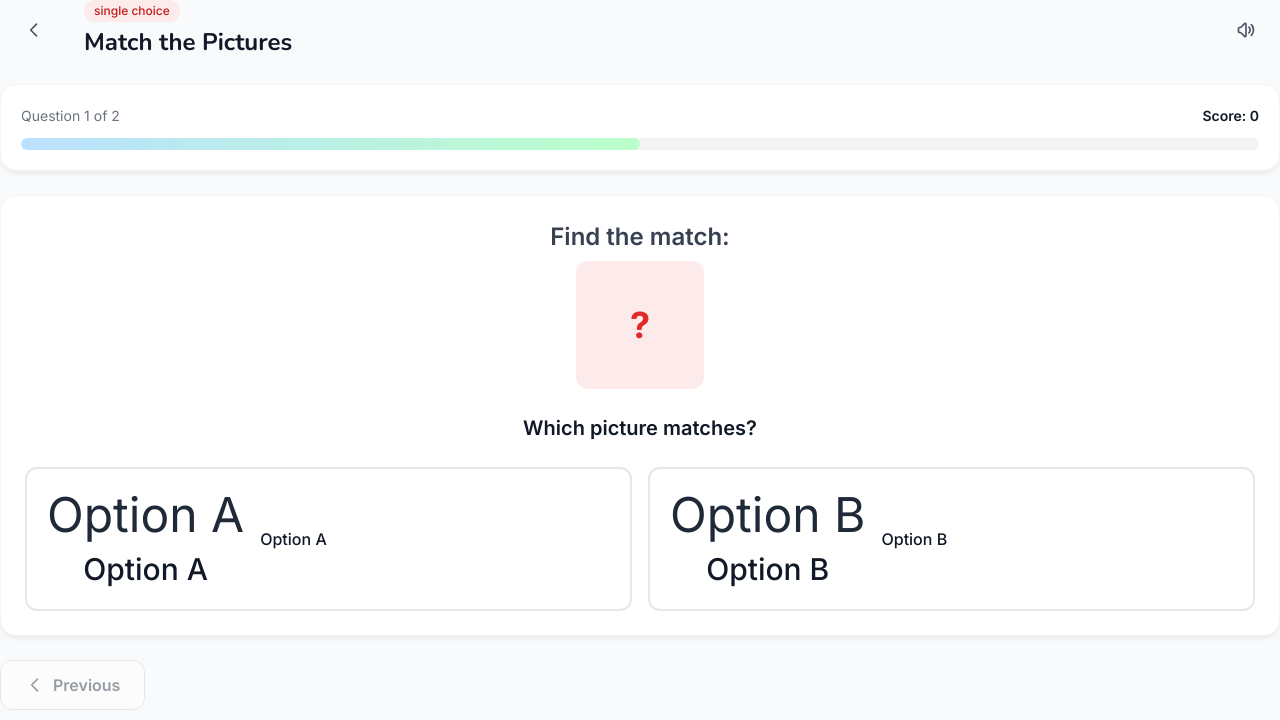
ActivityPage — Recommendation Integration › Recommendation display after completion › fetches and displays recommendation after successful completion
The image size is (1280, 720).
Expected: the heading "Match the Pictures" is shown, [84,26,292,58]
Click the button "Option A Option A Option A".
click(328, 539)  # box [25,467,632,611]
(page scrolled)
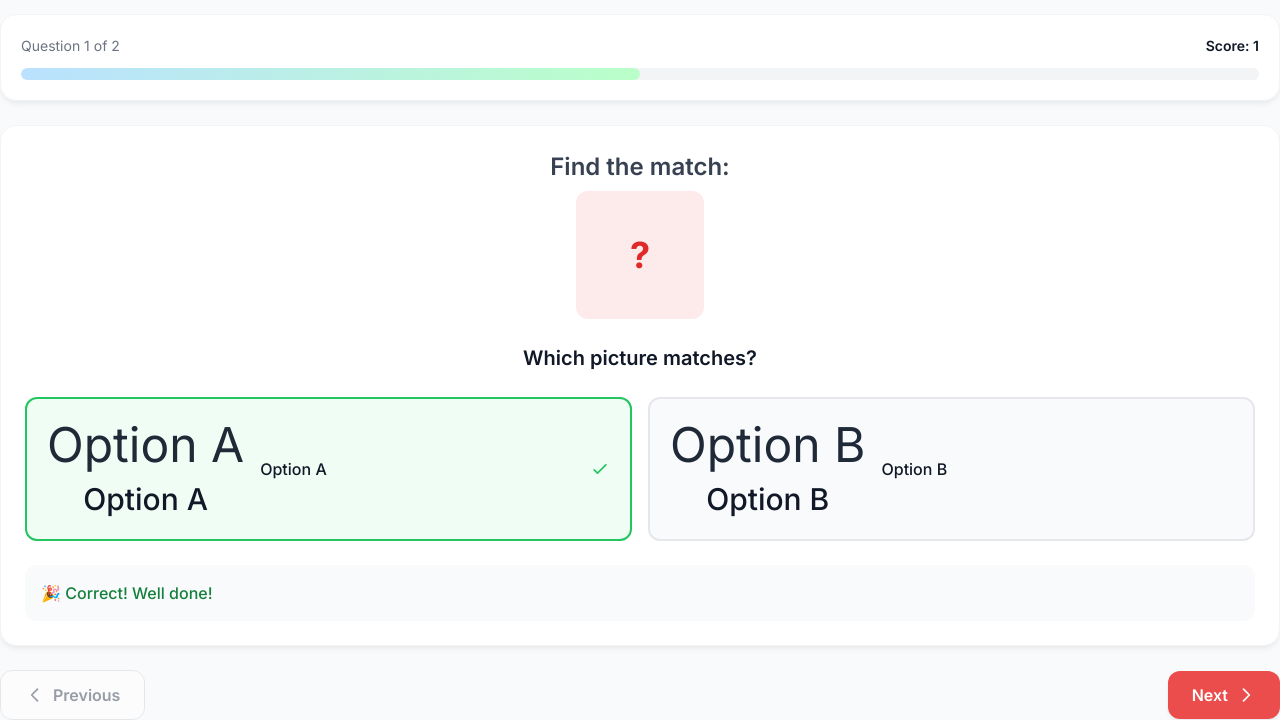
Result: the text "🎉 Correct! Well done!" is shown at [41,583,212,603]
Click the button "Next".
click(1224, 695)  # box [1168,671,1279,719]
(page scrolled)
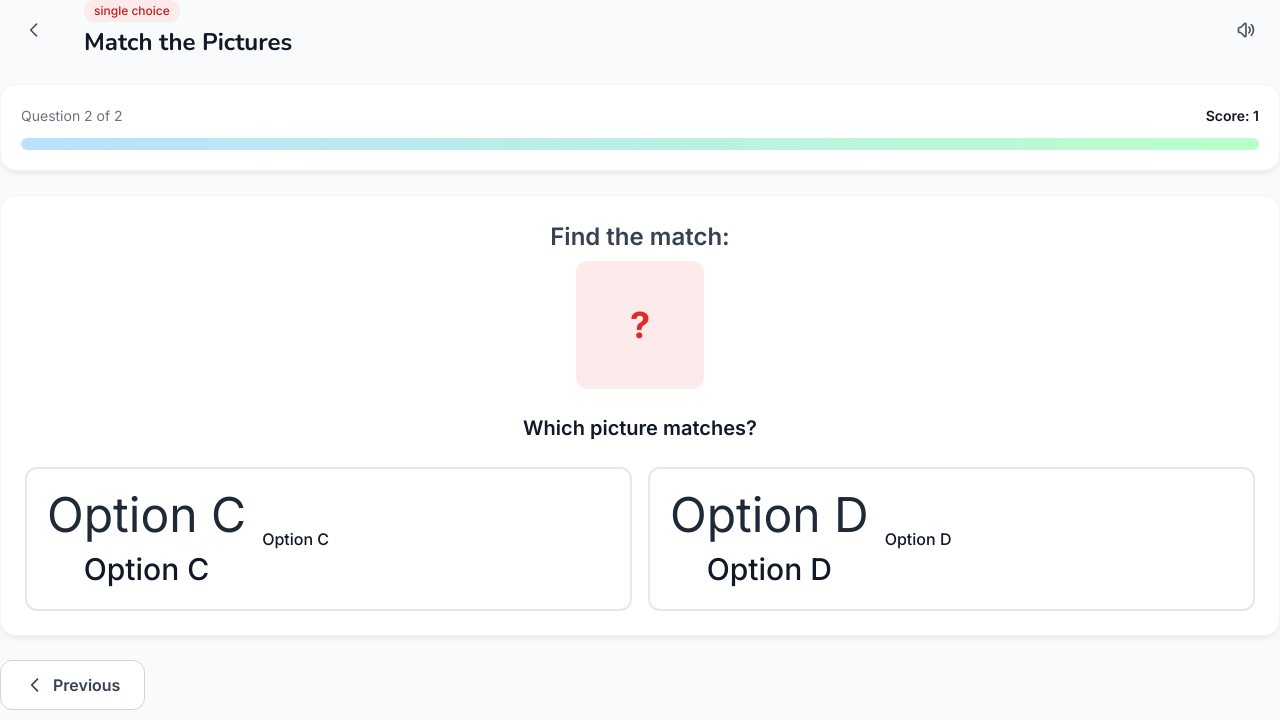
Click the button "Option C Option C Option C".
click(328, 539)  # box [25,467,632,611]
(page scrolled)
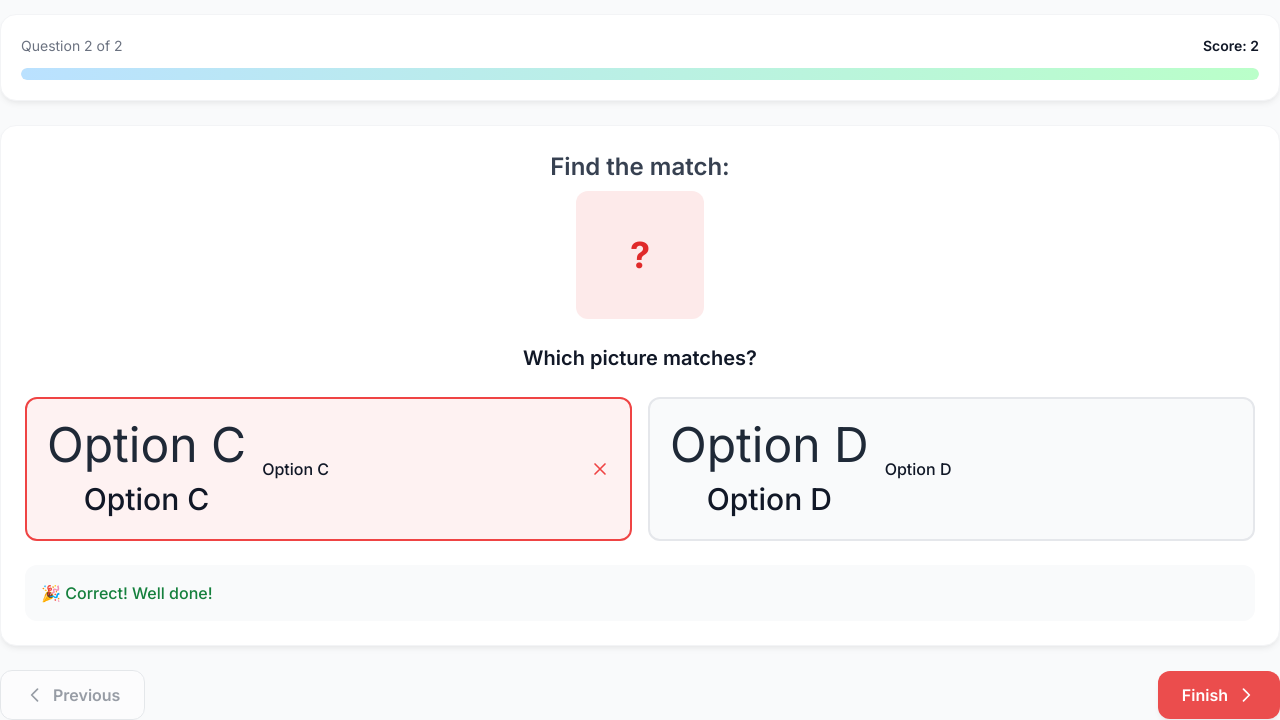
Result: the text "🎉 Correct! Well done!" is shown at [41,583,212,603]
Result: the button "Finish" is shown
Click the button "Finish".
click(1219, 695)  # box [1158,671,1279,719]
(page scrolled)
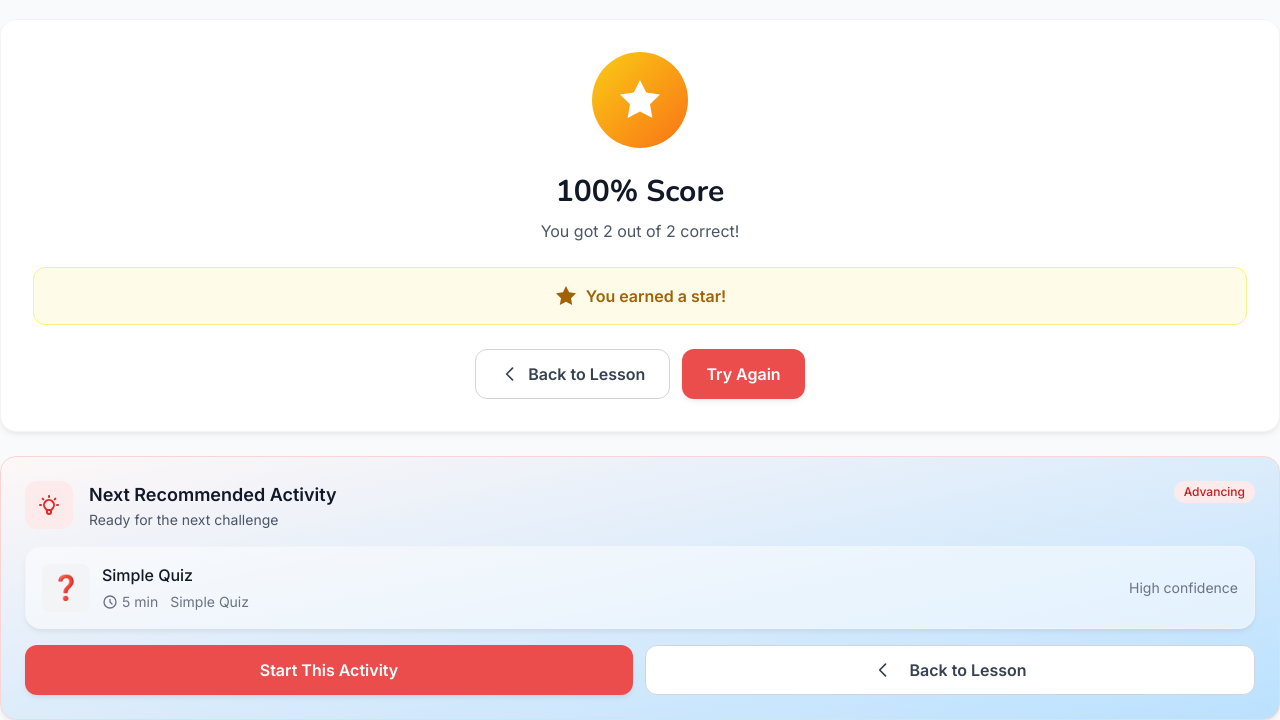
Result: the heading "Next Recommended Activity" is shown at [89,484,337,505]
Result: the text "Ready for the next challenge" is shown at [89,511,278,528]
Result: the text "Advancing" is shown at [1174,481,1255,503]
